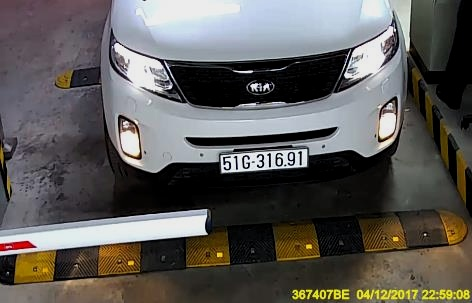plate: (218, 146, 309, 173)
